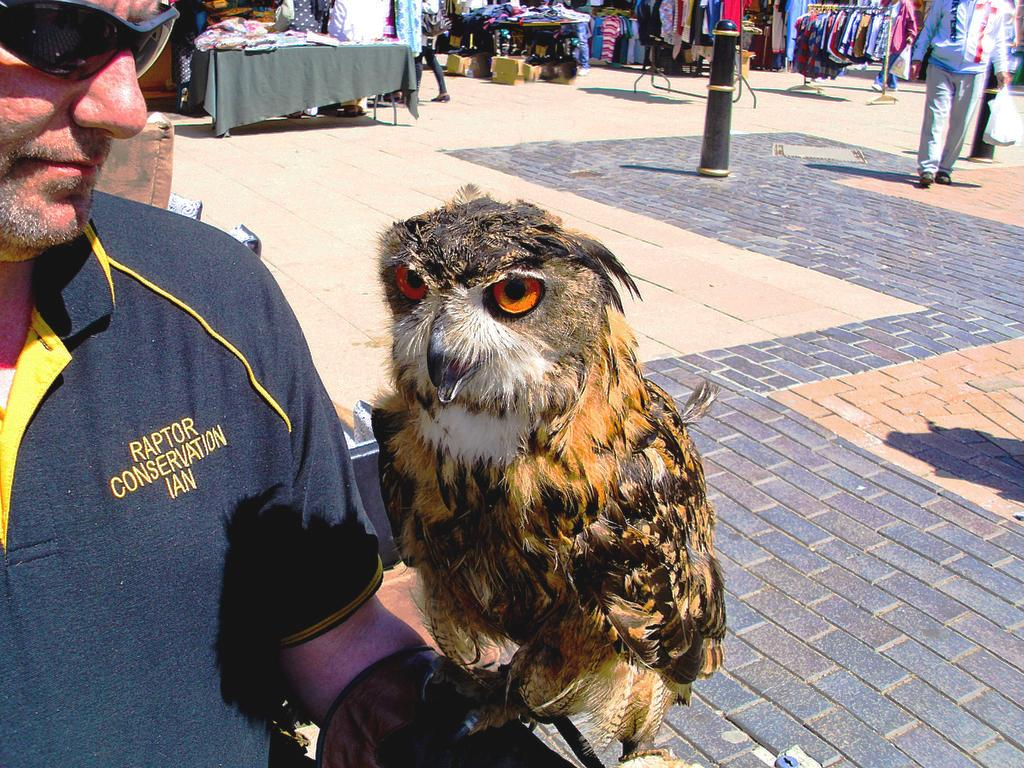Owl: (350, 181, 730, 768)
